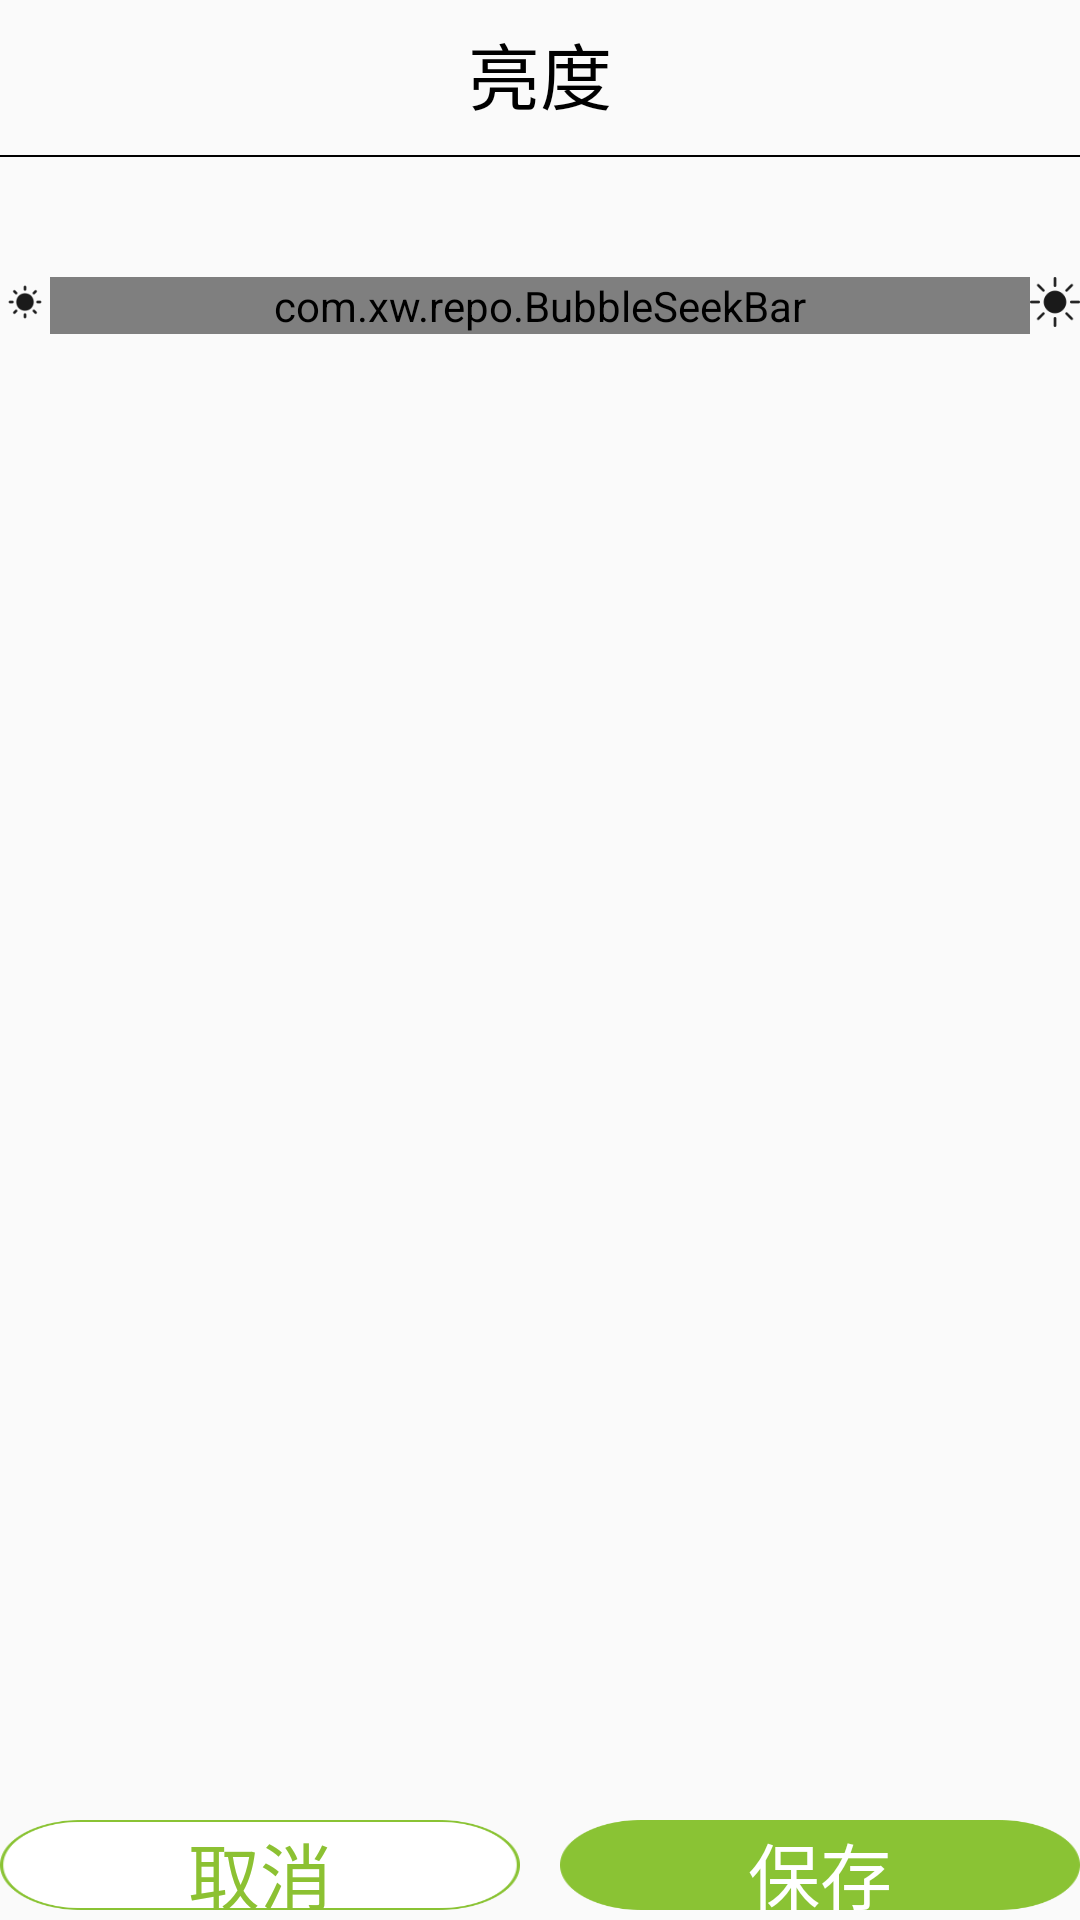

Named icons in this screenshot (1080 × 1920) and their bounding boxes, (x1, y1, x2, y2):
max: (1036, 277, 1080, 327)
